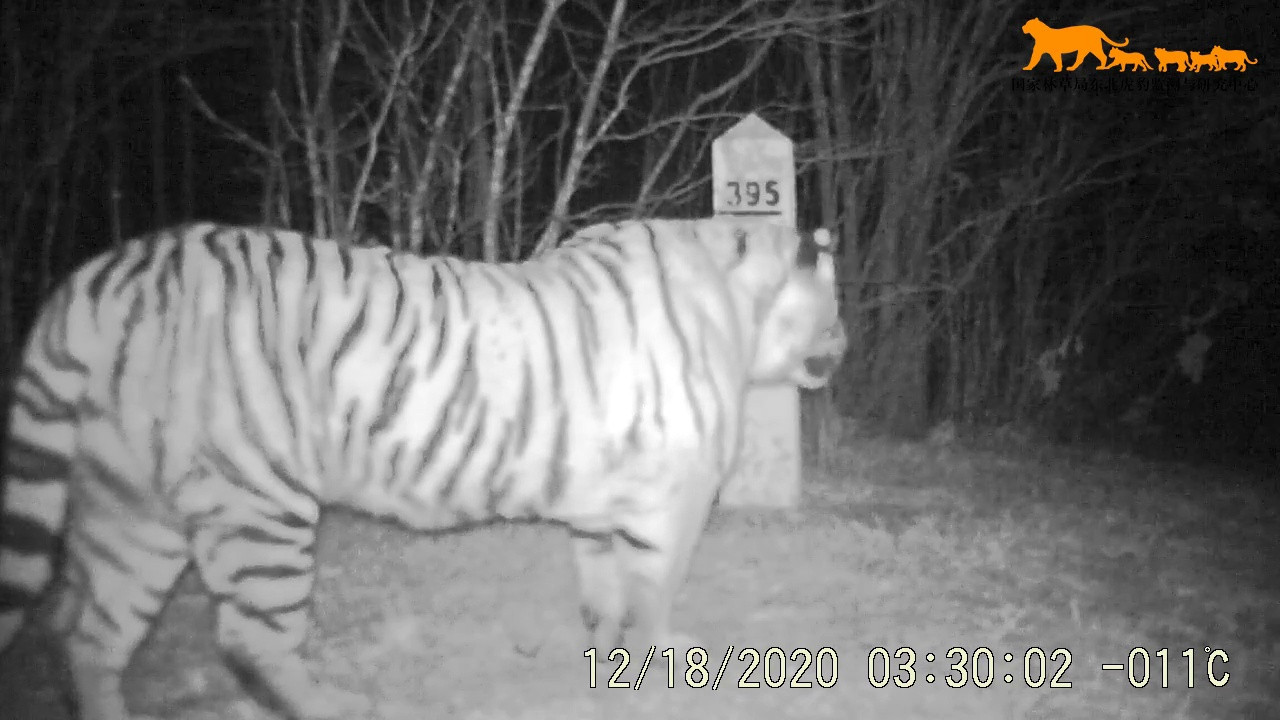Tiger: (1, 192, 867, 720)
